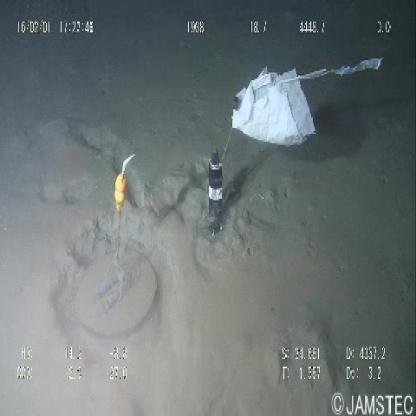Rov: (72, 140, 230, 339)
Rác: (228, 49, 384, 154)
